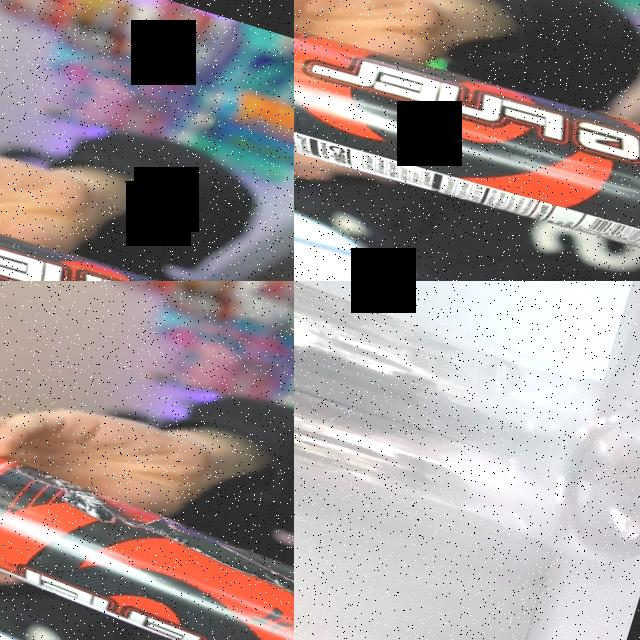bottle: (294, 281, 640, 580)
can: (294, 0, 640, 278), (0, 431, 294, 640), (0, 174, 294, 281)
